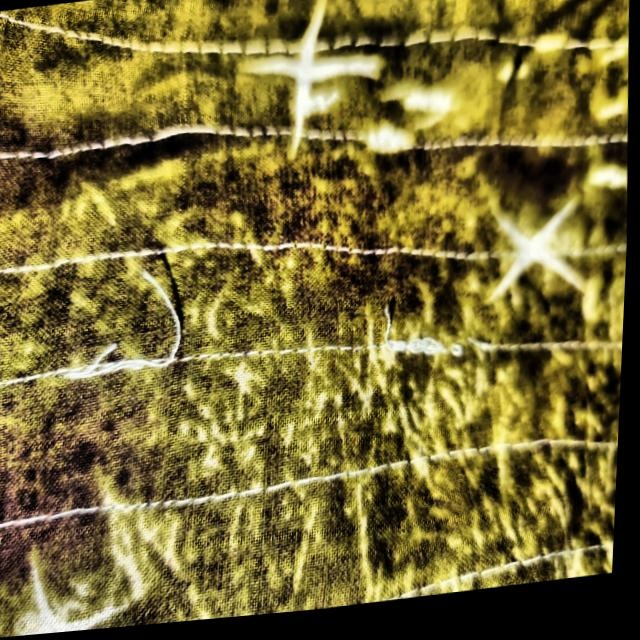Stitch: (207, 0, 429, 211), (49, 232, 225, 407), (333, 252, 511, 406)
